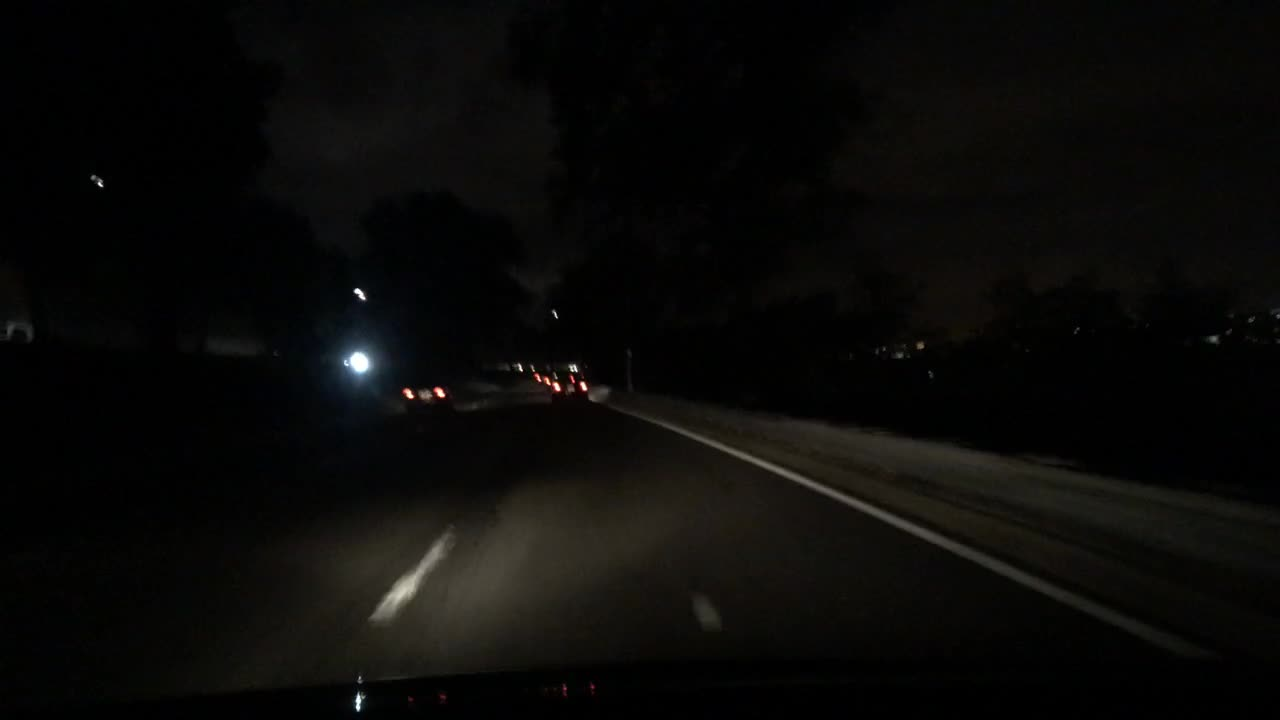car: (394, 378, 451, 411), (550, 370, 586, 400), (532, 367, 558, 391), (555, 363, 576, 375)
